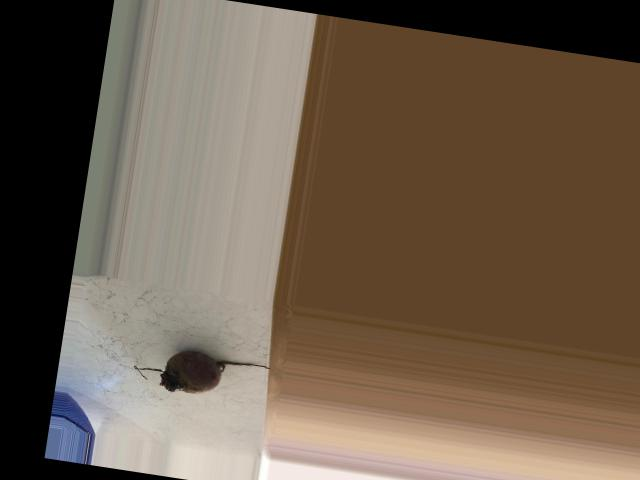beet: (131, 343, 274, 405)
